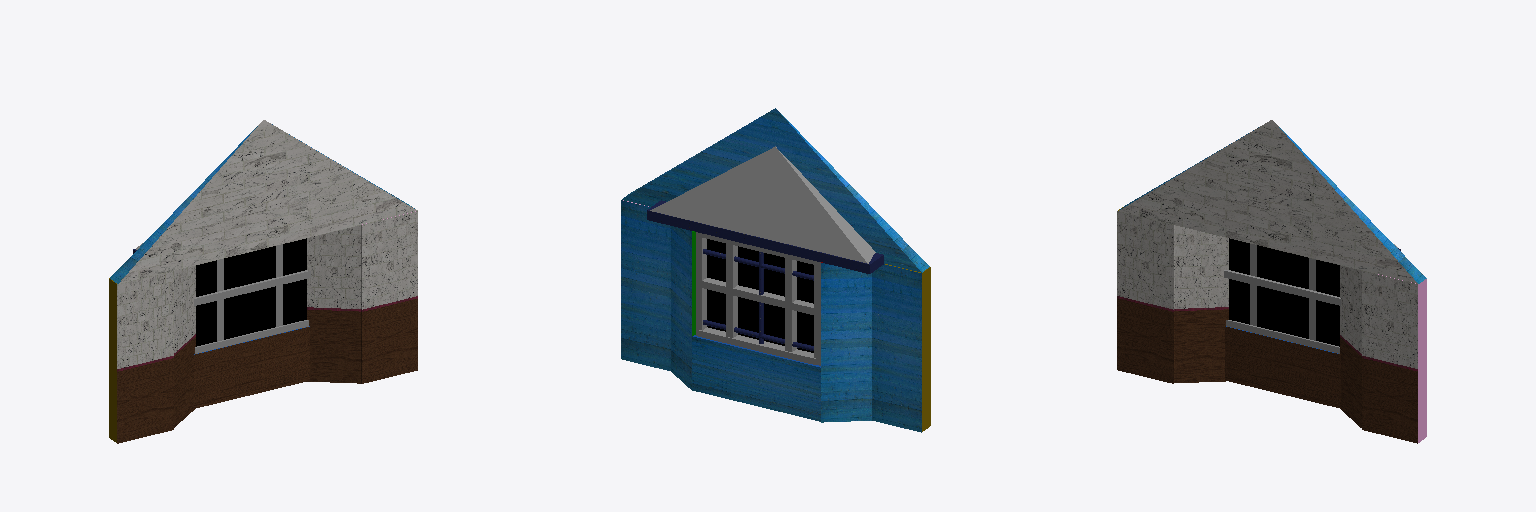
3 views of the same model, side by side, from view 1: azimuth 30°, elevation 25°; view 2: azimuth 150°, elevation 25°; view 3: azimuth 330°, elevation 25° (orthographic).
Visible parts, largest first — view 1: Pyramid001, Box002, Box001, Box004, Box014, Box005, Box003, Box013, Box009; view 2: Pyramid003, Pyramid001, Box002, Box003, Box001, Box005, Box014, Box004, Box006, Box013, Box009, Box012 (+3 smaller); view 3: Pyramid001, Box001, Box002, Box003, Box014, Box005, Box004, Box013, Box009.
Part boxes in pixels (x1,y1,x2,y2): Pyramid001: (110,120,417,283); Box002: (109,271,173,443); Box001: (361,211,417,383); Box004: (307,225,360,383); Box014: (196,238,306,346); Box005: (194,326,309,408); Box003: (174,266,195,427); Box013: (194,270,310,305); Box009: (195,320,308,353); Pyramid003: (650,146,875,263); Pyramid001: (622,108,929,272); Box002: (872,264,930,432); Box003: (821,262,871,422); Box001: (621,200,670,370); Box005: (692,335,820,421); Box014: (707,239,813,352); Box004: (671,226,695,389); Box006: (647,200,883,273); Box013: (696,278,820,316); Box009: (697,327,816,364); Box012: (726,244,737,337); Pyramid001: (1119,120,1426,283); Box001: (1362,271,1426,443); Box002: (1117,207,1174,383); Box003: (1175,225,1228,382); Box014: (1229,238,1339,346); Box005: (1225,326,1340,408); Box004: (1340,265,1361,427); Box013: (1224,270,1340,305); Box009: (1226,320,1339,353).
Size of the model in its own units: 495 by 447 by 68.39.
12 materials, 6 textured.